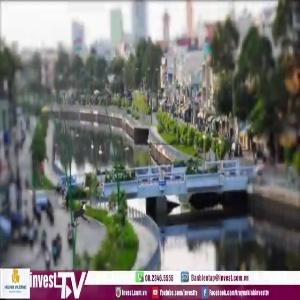drone: (53, 185, 112, 244)
